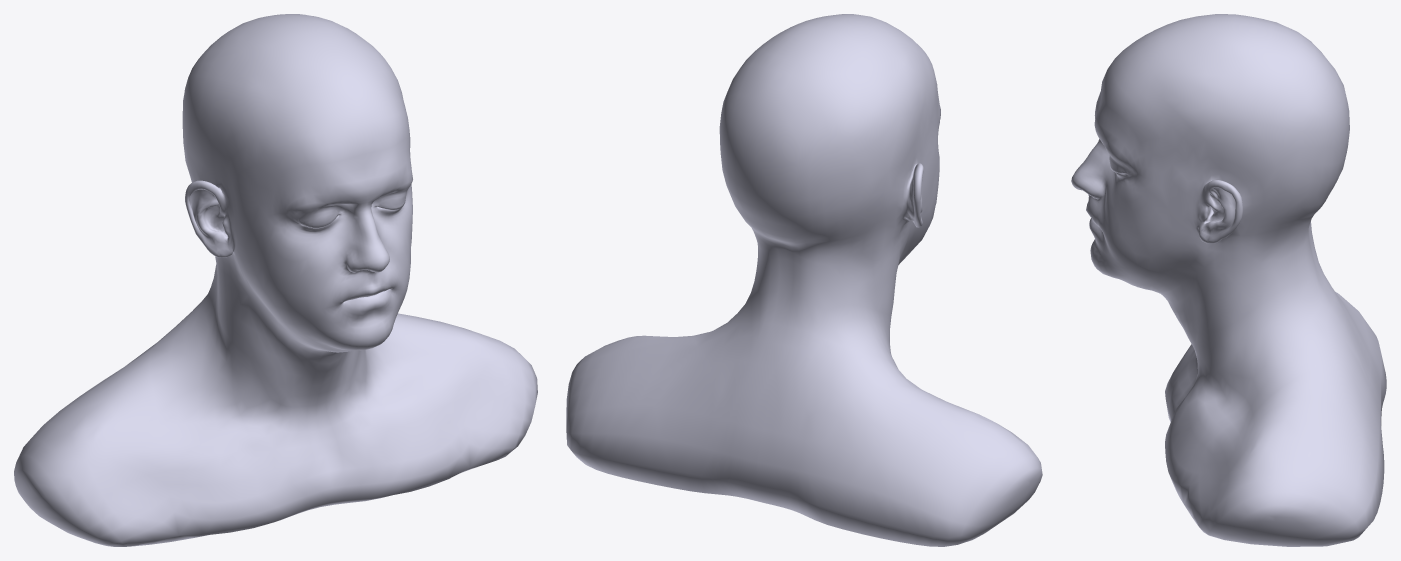
The model's file is renwutouxiangrenwutouxiang.glb.
3 renders of one model, left to right at view 1: azimuth 30°, elevation 25°; view 2: azimuth 150°, elevation 25°; view 3: azimuth 270°, elevation 25°, orthographic. The views are drawn at different scales.
Parts seen in each view (by area): view 1: LeePerrySmith.001; view 2: LeePerrySmith.001; view 3: LeePerrySmith.001.
Part boxes in pixels (x1,y1,x2,y2): LeePerrySmith.001: (14, 14, 537, 546); LeePerrySmith.001: (566, 14, 1042, 546); LeePerrySmith.001: (1071, 14, 1386, 546).
Bounding box in the file's own units: 8.55 × 7.95 × 5.18.
